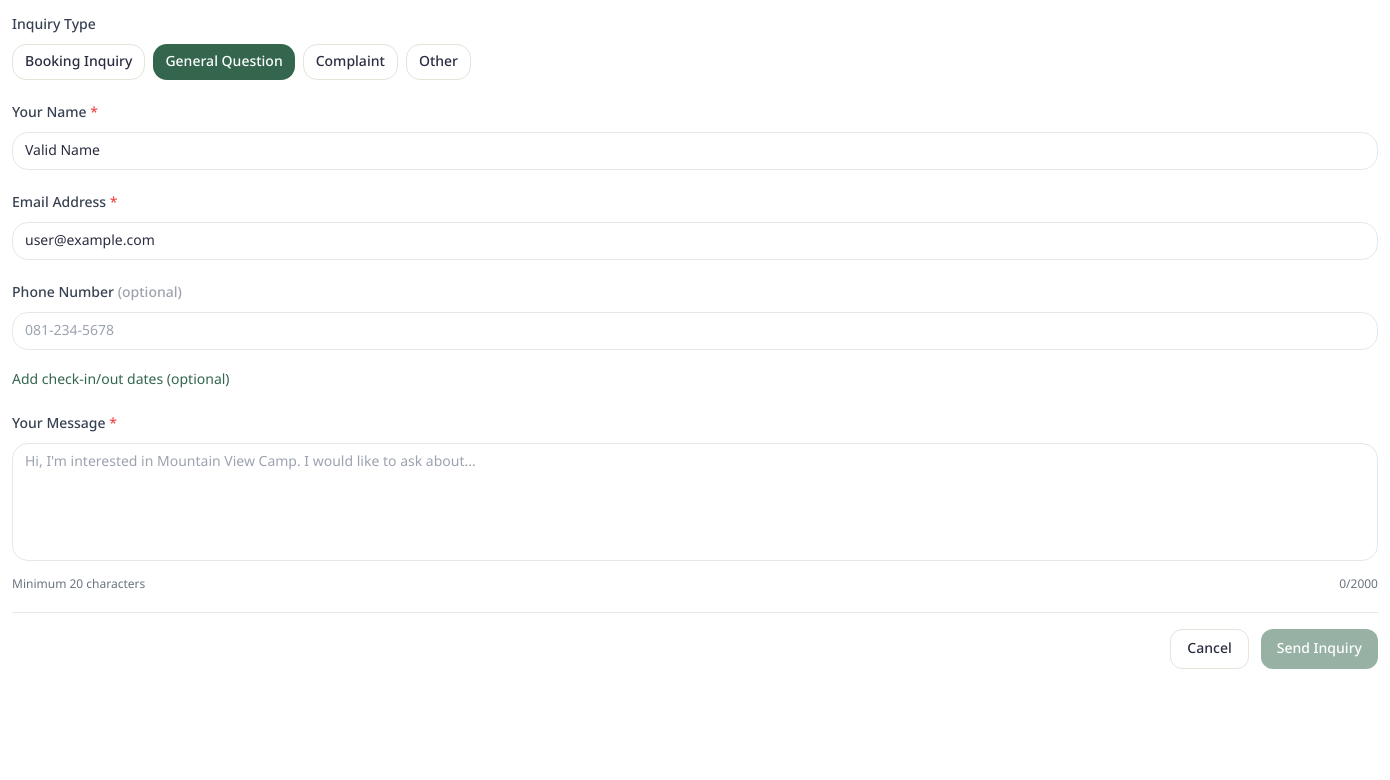
Scenario: InquiryForm - Pre-fill for Logged-in Users › Field editability › should validate edited name field
The width and height of the screenshot is (1390, 780).
# Clear name to trigger validation error
Clear the field labelled "Your Name *" at (695, 151), box [12,132,1378,170]
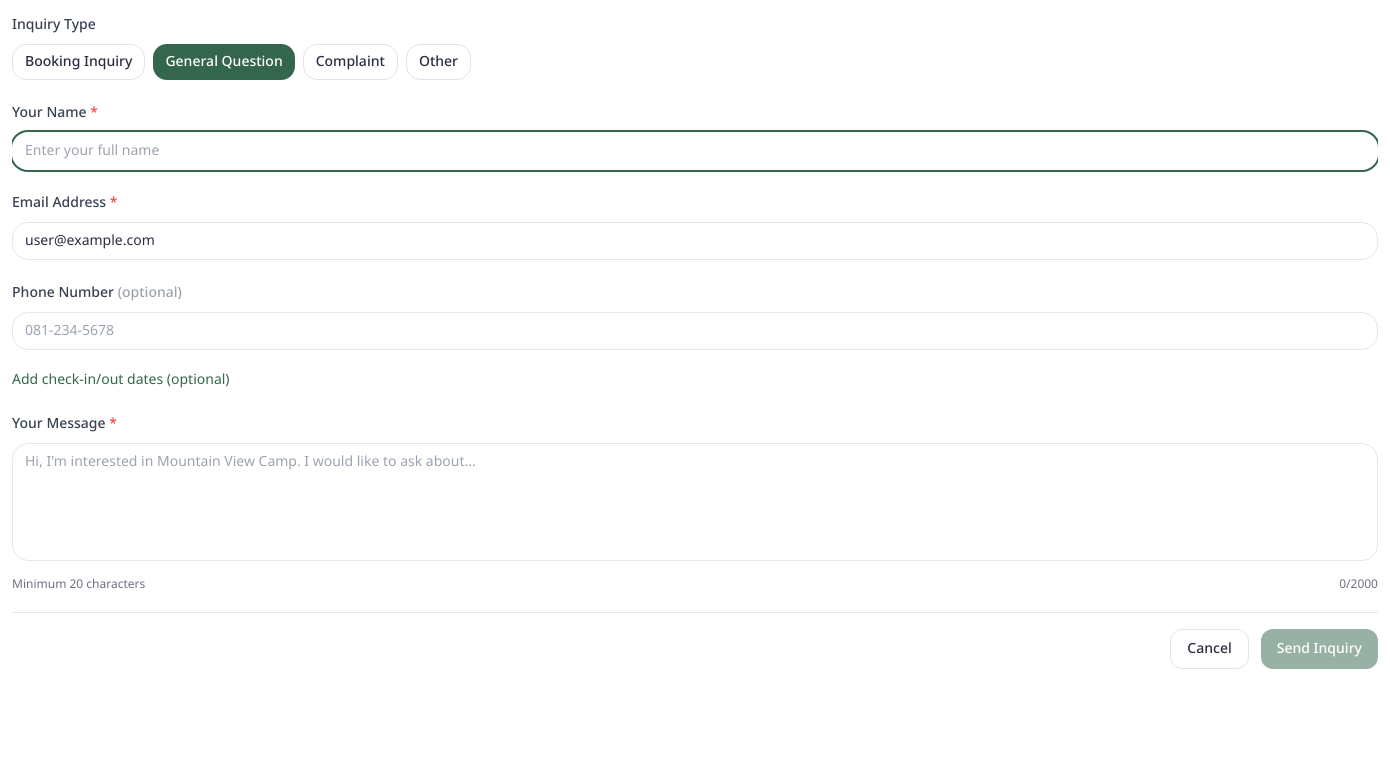
Type "Test message that is long enough to pass validation requirements" into the text box labelled "Your Message *" at (695, 502), box [12,443,1378,561]
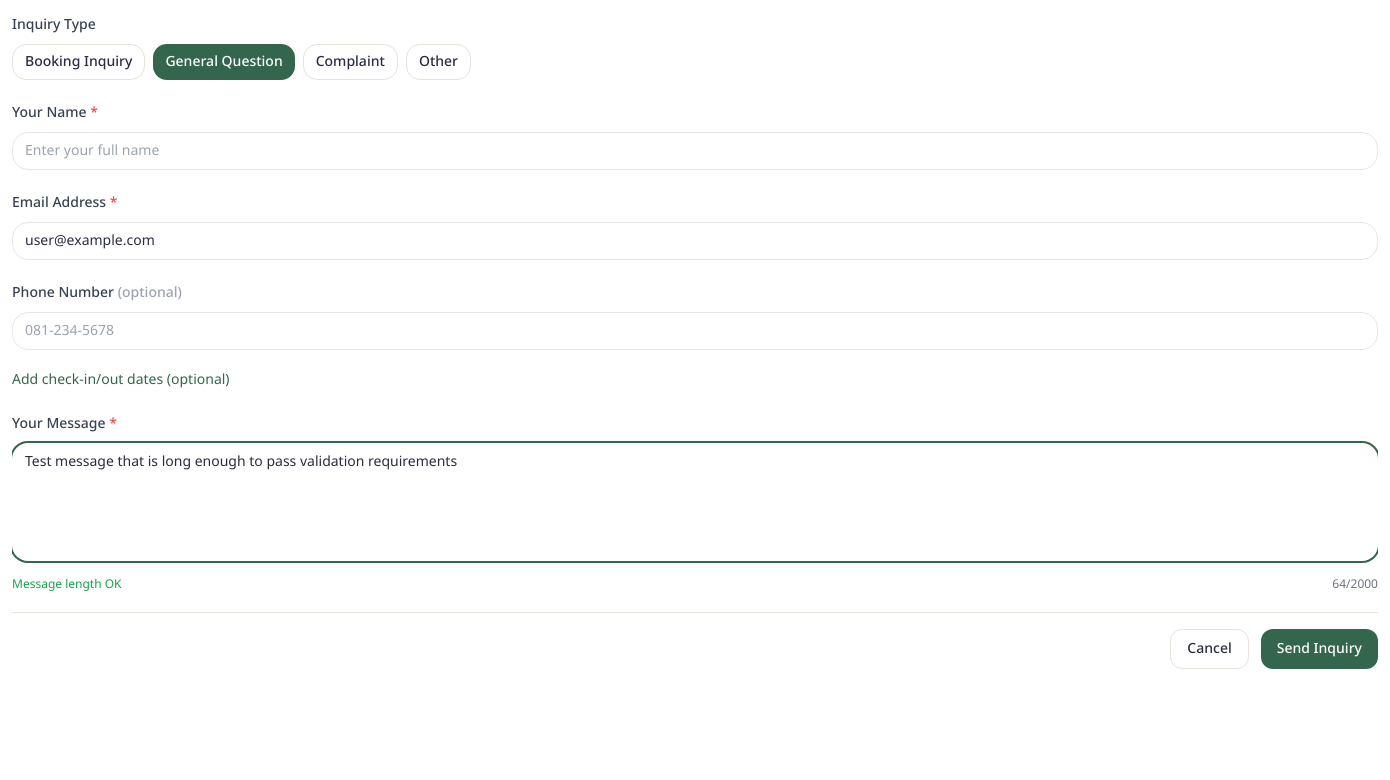
Click the button "Send Inquiry" at (1319, 649), box [1261,629,1378,669]
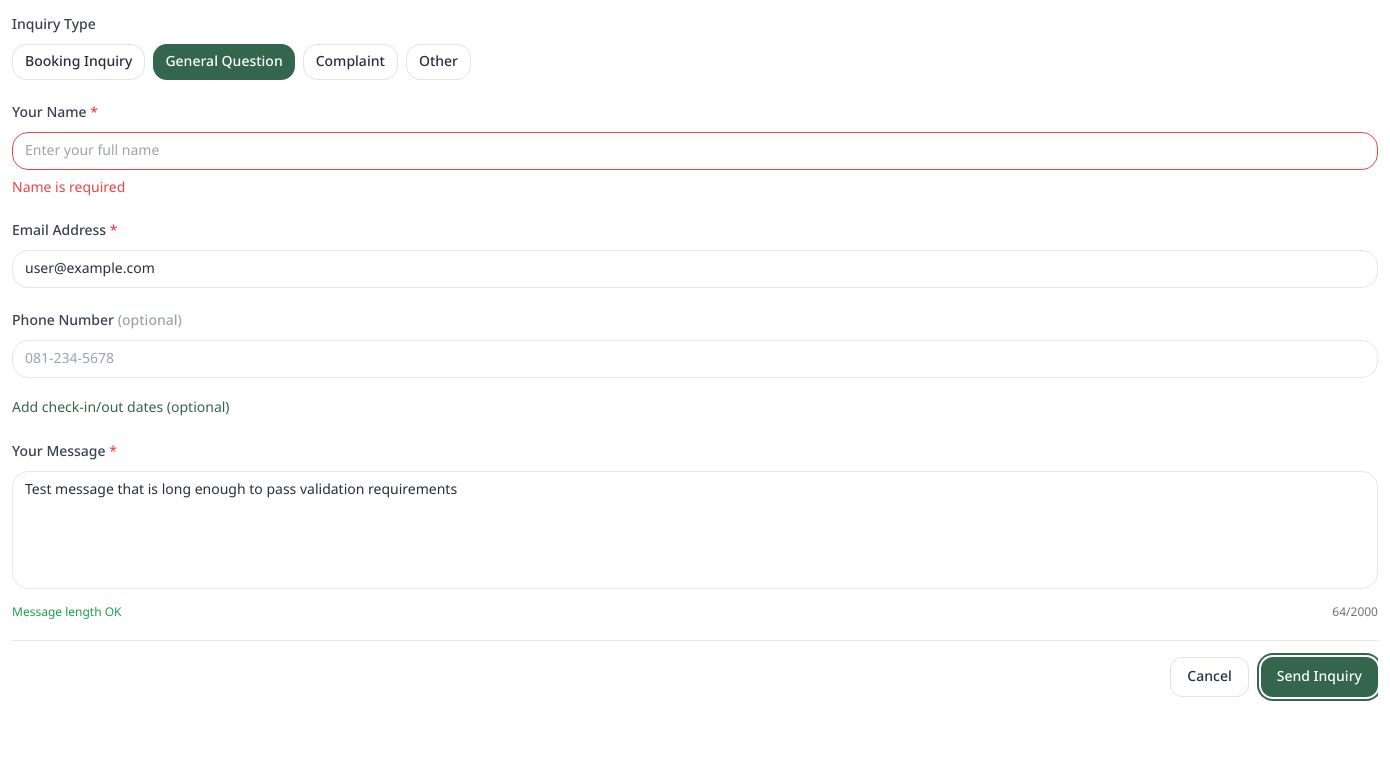
Expected: the text "Name is required" is shown, [12,177,125,198]
